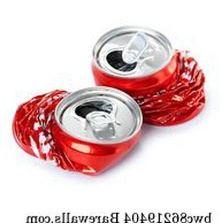can: (5, 78, 146, 179), (85, 21, 210, 131)
